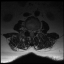CCS_normal: (31, 28, 32, 36)
LFS_normal: (34, 28, 36, 34)
LLS_normal: (32, 29, 34, 35)
RFS_normal: (27, 28, 29, 33)
RLS_normal: (29, 28, 31, 35)
